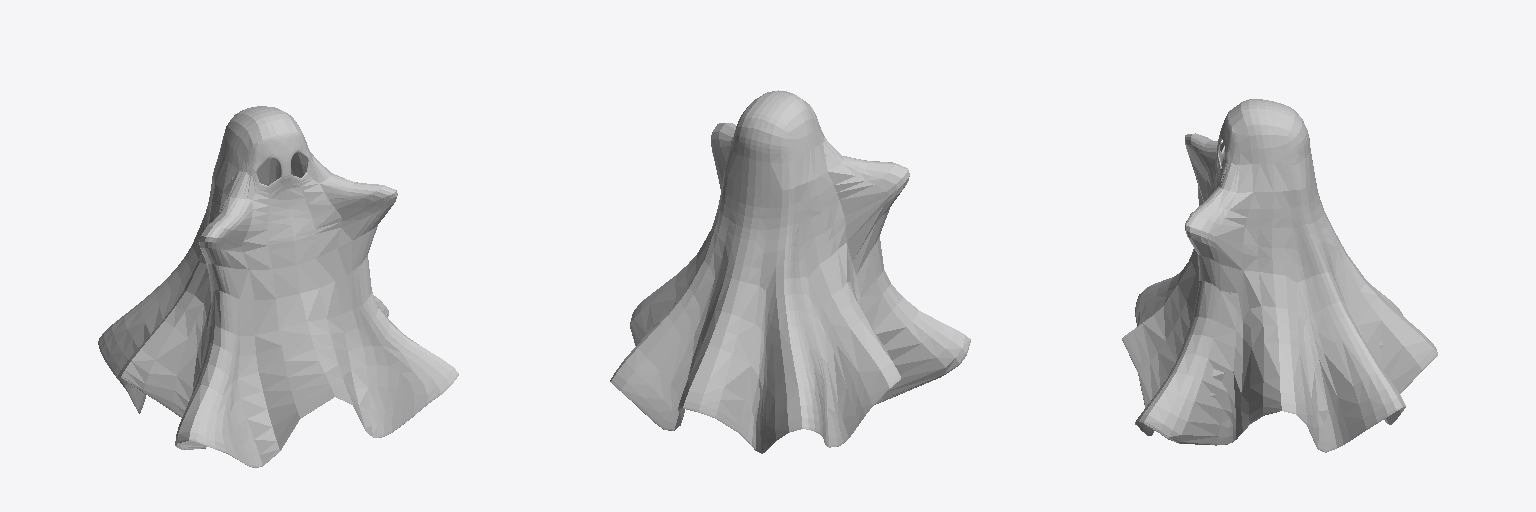
3 views of the same model, side by side, from view 1: azimuth 30°, elevation 25°; view 2: azimuth 150°, elevation 25°; view 3: azimuth 270°, elevation 25° (orthographic).
Parts seen in each view (by area): view 1: youlinguu2:Group3 walk1; view 2: youlinguu2:Group3 walk1; view 3: youlinguu2:Group3 walk1.
Boxes of the visible parts, x1=… form: youlinguu2:Group3 walk1: x1=98, y1=106, x2=458, y2=467; youlinguu2:Group3 walk1: x1=610, y1=90, x2=970, y2=453; youlinguu2:Group3 walk1: x1=1122, y1=99, x2=1437, y2=452.
Size of the model in its own units: 37.35 by 39.19 by 36.97.